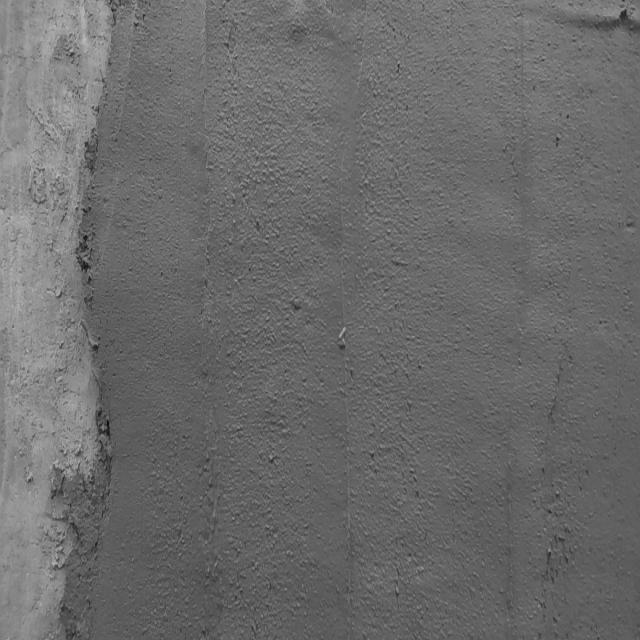trowels marks: (328, 161, 361, 640)
